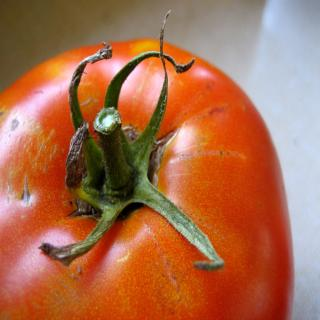tomato: (20, 27, 297, 312)
